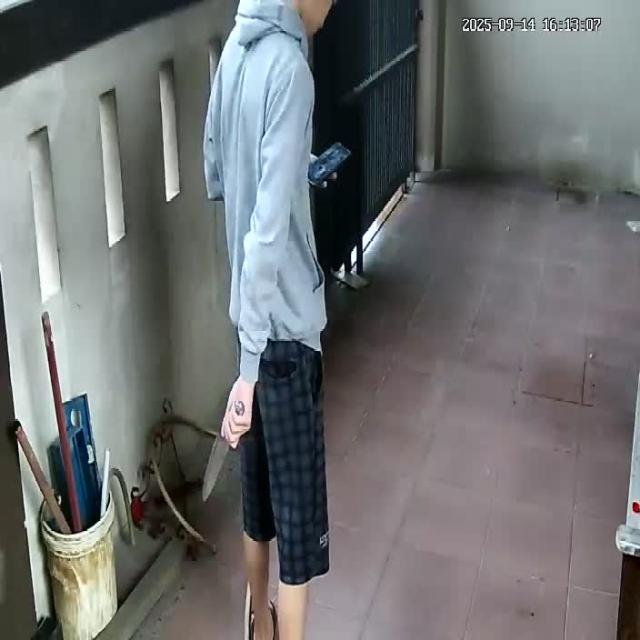senjata_tajam: (200, 431, 232, 506)
